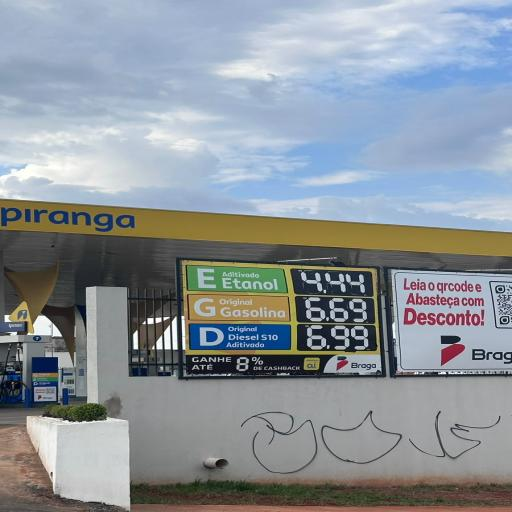ETANOL: (190, 266, 283, 292)
GASOLINA C: (191, 295, 290, 321)
S10: (189, 324, 291, 349)
placa: (179, 260, 384, 355)
preco: (292, 268, 374, 295), (302, 296, 370, 323), (304, 325, 372, 351)
